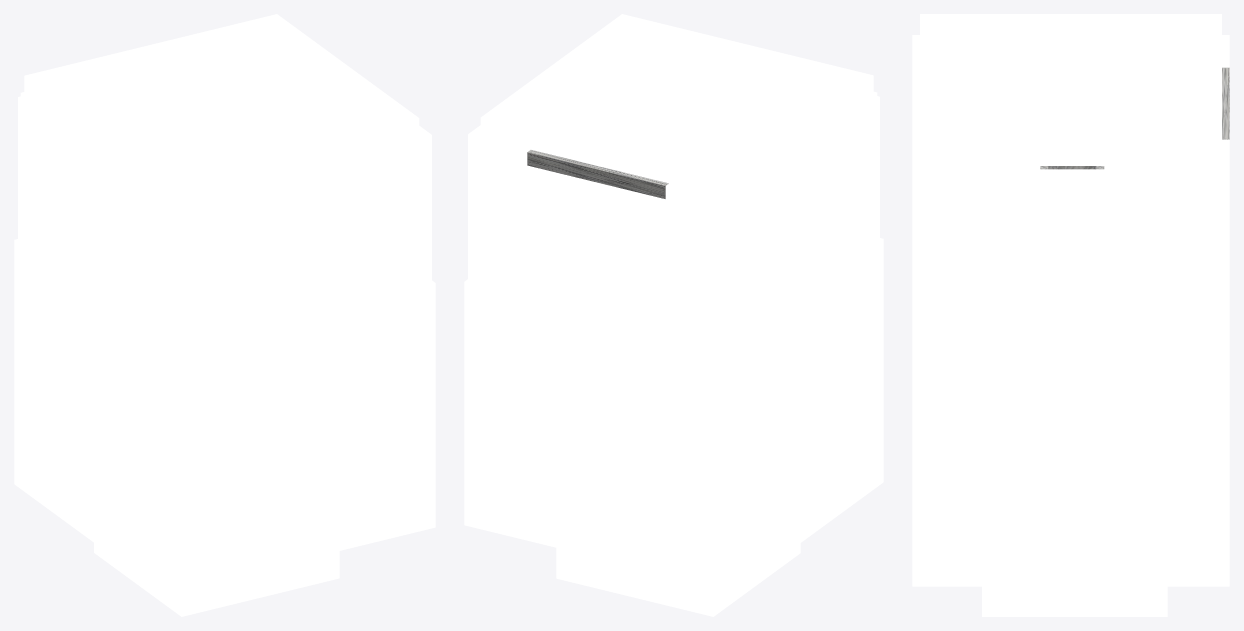
The model's file is Room.glb.
The picture shows the model from 3 angles, left to right: view 1: azimuth 30°, elevation 25°; view 2: azimuth 150°, elevation 25°; view 3: azimuth 270°, elevation 25°; orthographic projection. The views are drawn at different scales.
Visible parts, largest first — view 1: Cube.002 (×11); view 2: Cube.002 (×11), Cube; view 3: Cube.002 (×7), Cube.
Part boxes in pixels (x1=…): Cube.002 (×11): x1=14, y1=14, x2=435, y2=616; Cube.002 (×11): x1=464, y1=14, x2=883, y2=616; Cube: x1=470, y1=136, x2=530, y2=296; Cube.002 (×7): x1=912, y1=14, x2=1229, y2=616; Cube: x1=1222, y1=139, x2=1229, y2=323.
Size of the model in its own units: 1131 by 1867 by 1078.
Materials: 7 (4 with a texture image).
